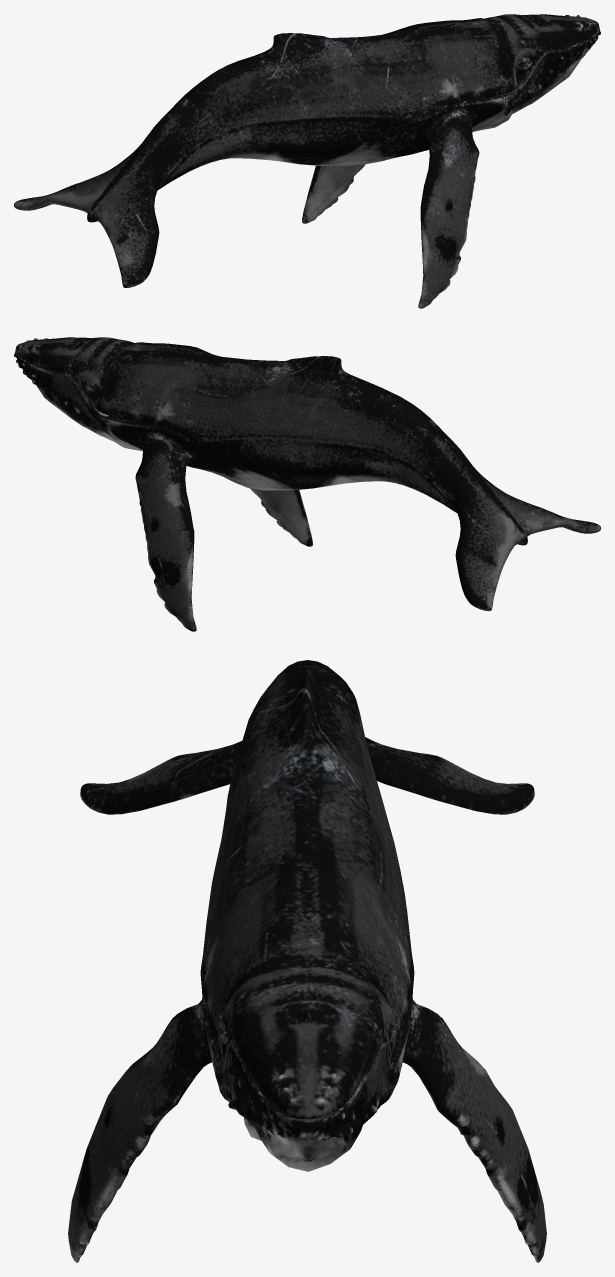
Rendered from scan_humpback.glb.
3 views of the same model, one above another, from view 1: azimuth 30°, elevation 25°; view 2: azimuth 150°, elevation 25°; view 3: azimuth 270°, elevation 25° (orthographic). The views are drawn at different scales.
Parts seen in each view (by area): view 1: scan_humpback; view 2: scan_humpback; view 3: scan_humpback.
Part boxes in pixels (x1=…): scan_humpback: x1=14, y1=14, x2=600, y2=308; scan_humpback: x1=14, y1=337, x2=600, y2=631; scan_humpback: x1=68, y1=660, x2=546, y2=1262.
Bounding box in the file's own units: 14 × 6.37 × 5.47.
Materials: 1 (1 with a texture image).
